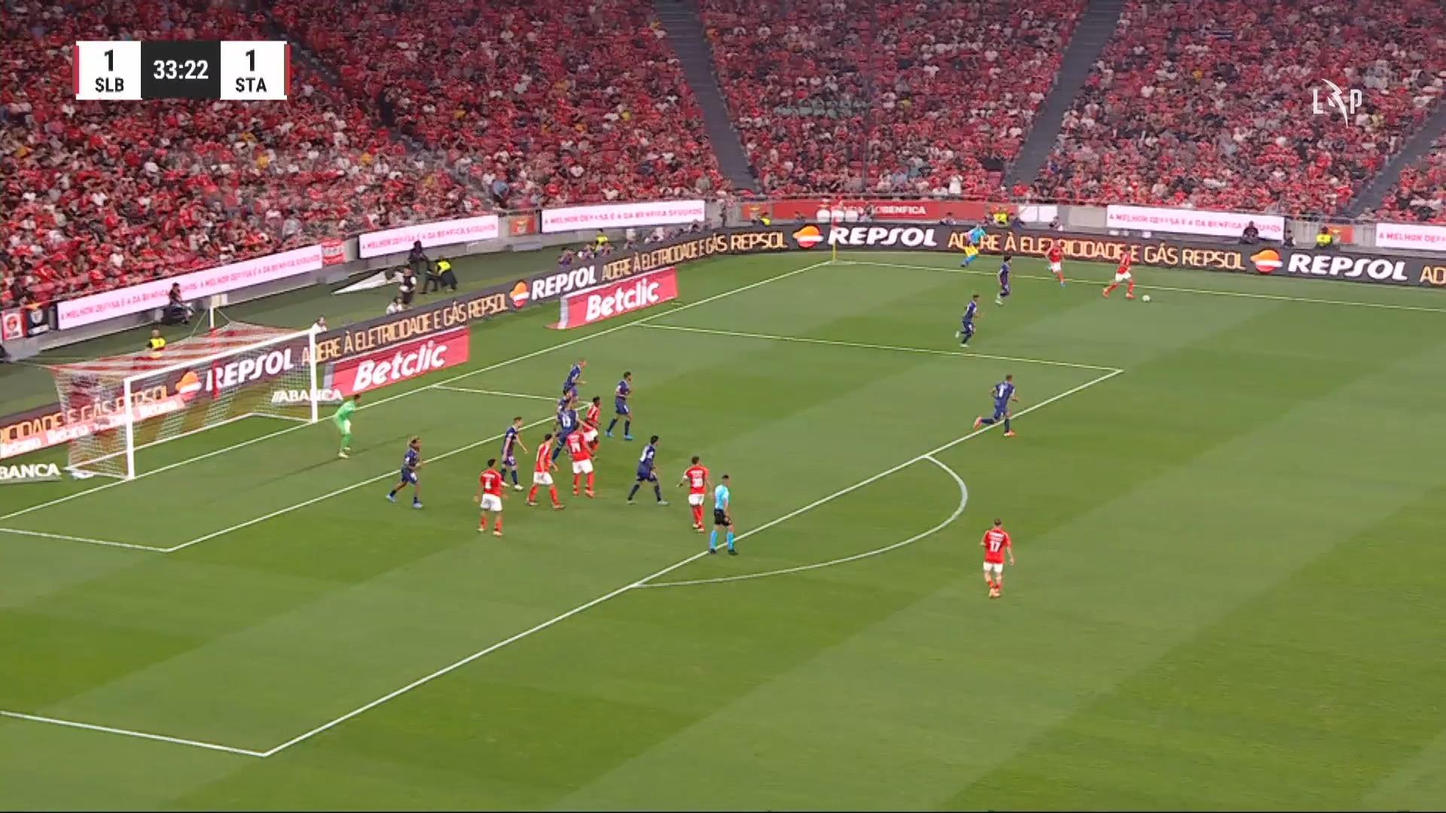ball: (1142, 294, 1149, 301)
goalkeeper: (331, 392, 361, 458)
player: (524, 431, 565, 510), (626, 434, 669, 505), (972, 373, 1019, 437), (979, 517, 1015, 598), (384, 436, 424, 508), (565, 417, 599, 497), (473, 457, 507, 536), (676, 454, 709, 532), (499, 415, 529, 490), (550, 393, 581, 465), (603, 370, 634, 440), (1101, 243, 1137, 299), (560, 357, 587, 410), (954, 292, 980, 346), (582, 394, 602, 454), (1043, 238, 1066, 286), (993, 252, 1012, 306)
referee: (707, 473, 738, 555), (959, 221, 986, 267)
